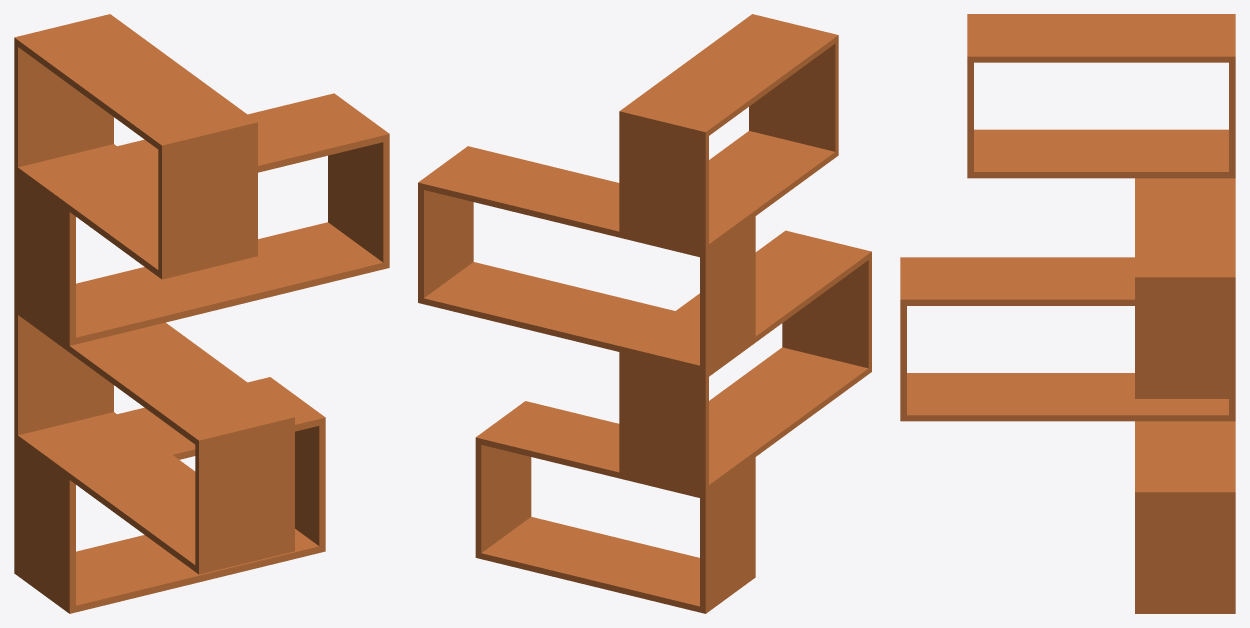
The model's file is shelf.glb.
3 renders of one model, left to right at view 1: azimuth 30°, elevation 25°; view 2: azimuth 150°, elevation 25°; view 3: azimuth 270°, elevation 25°, orthographic. The views are drawn at different scales.
Size of the model in its own units: 0.625 by 1 by 0.625.
